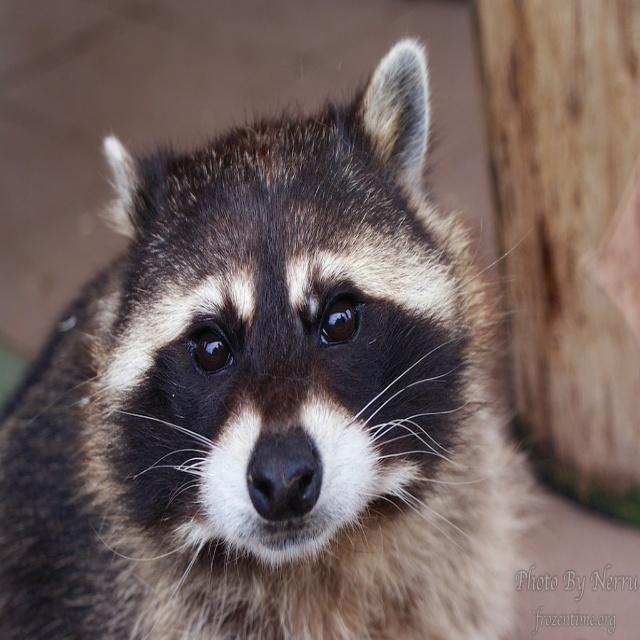Raccoon: (0, 25, 549, 640)
